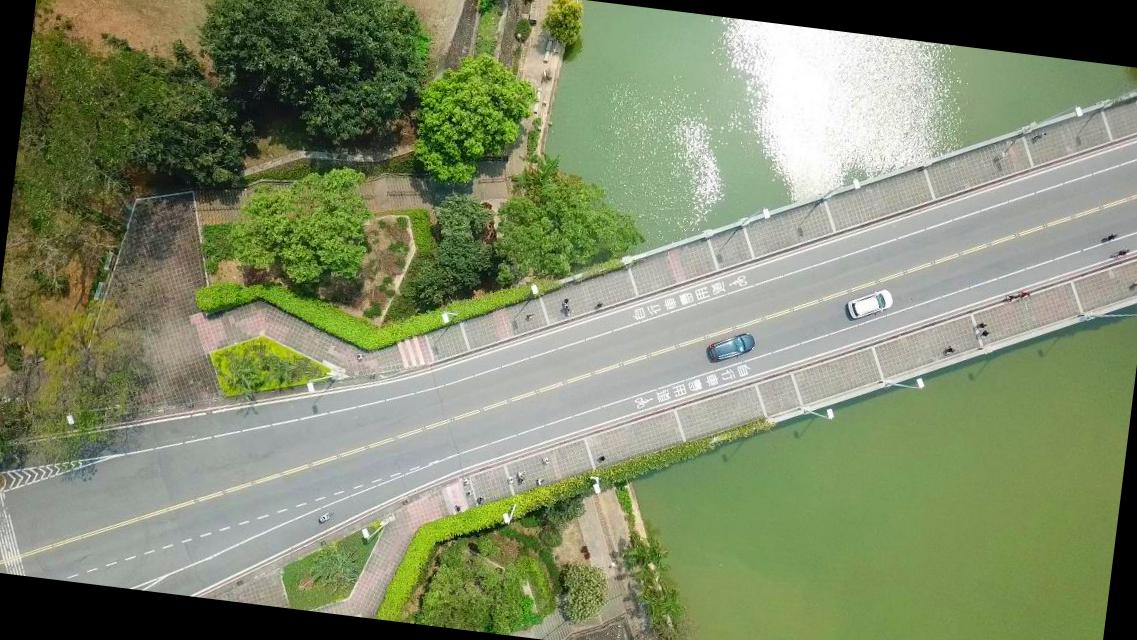vehicle: (704, 328, 756, 368), (844, 285, 894, 323)
